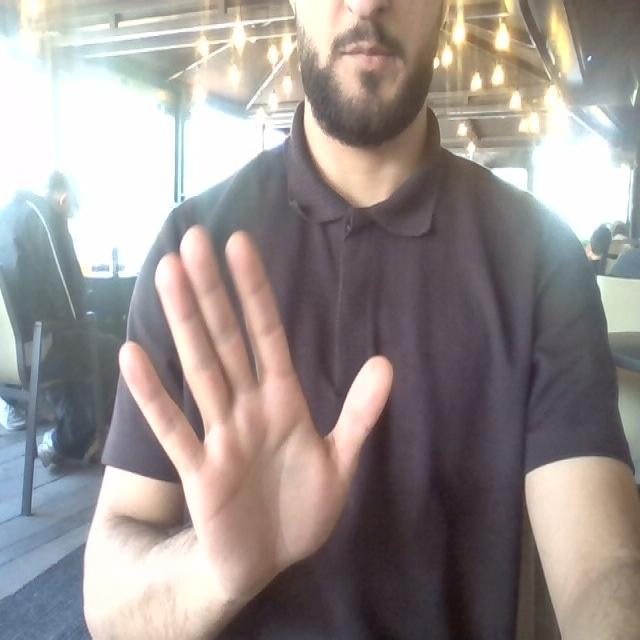Hand: (120, 227, 392, 599)
